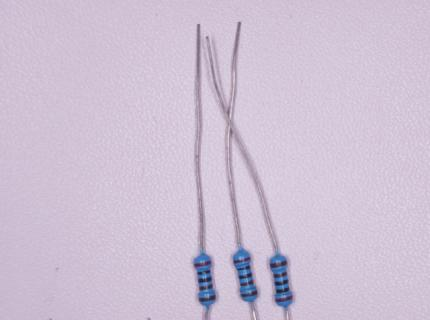Black band: (238, 272, 253, 280), (274, 279, 289, 286), (199, 276, 212, 283), (276, 287, 290, 293), (197, 270, 211, 275), (237, 265, 251, 270)
Brown band: (270, 260, 288, 268), (240, 290, 258, 297), (199, 295, 216, 301), (199, 284, 213, 291), (240, 279, 254, 286), (274, 271, 287, 278)
Red band: (233, 256, 251, 264), (275, 295, 293, 302), (194, 261, 211, 267)
